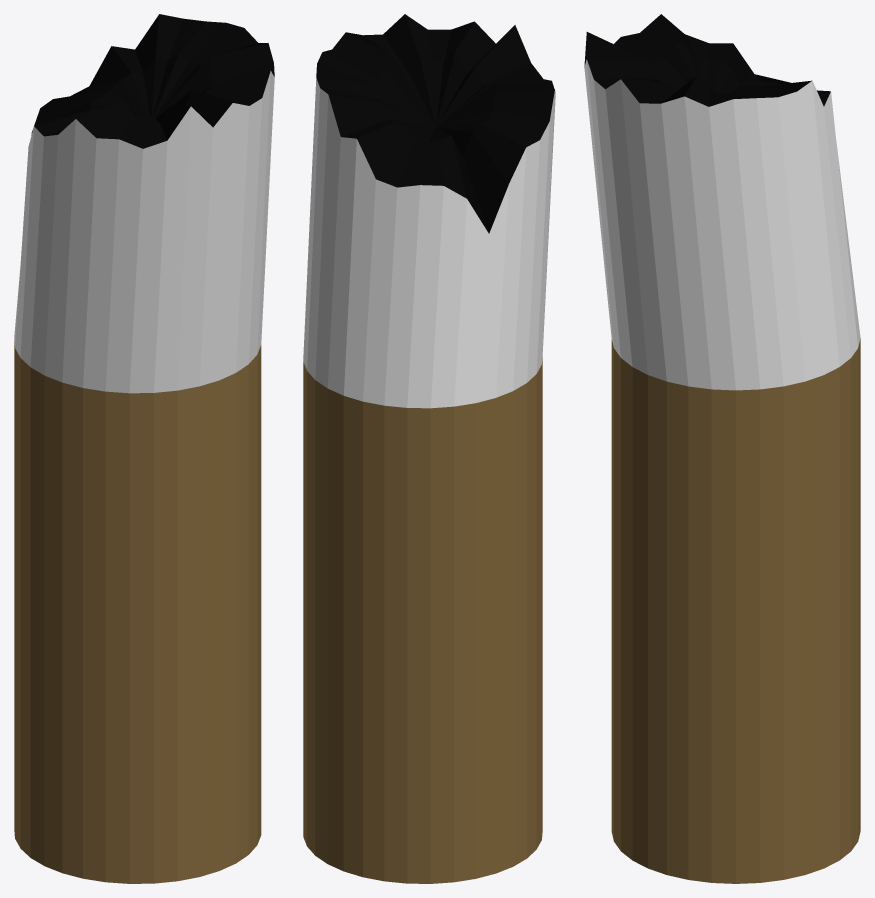
Rendered from cig.glb.
3 views of the same model, side by side, from view 1: azimuth 30°, elevation 25°; view 2: azimuth 150°, elevation 25°; view 3: azimuth 270°, elevation 25° (orthographic). The views are drawn at different scales.
Visible parts, largest first — view 1: Cylinder.003, Cylinder, Cylinder.001; view 2: Cylinder.003, Cylinder, Cylinder.001; view 3: Cylinder.003, Cylinder, Cylinder.001.
Boxes of the visible parts, <box> form: Cylinder.003: <box>14,341,261,883</box>; Cylinder: <box>14,70,274,393</box>; Cylinder.001: <box>31,14,274,148</box>; Cylinder.003: <box>303,357,542,883</box>; Cylinder: <box>303,78,555,408</box>; Cylinder.001: <box>316,14,554,233</box>; Cylinder.003: <box>611,338,860,883</box>; Cylinder: <box>584,59,860,390</box>; Cylinder.001: <box>584,14,830,106</box>.
Bounding box in the file's own units: 2 × 7 × 2.22.
